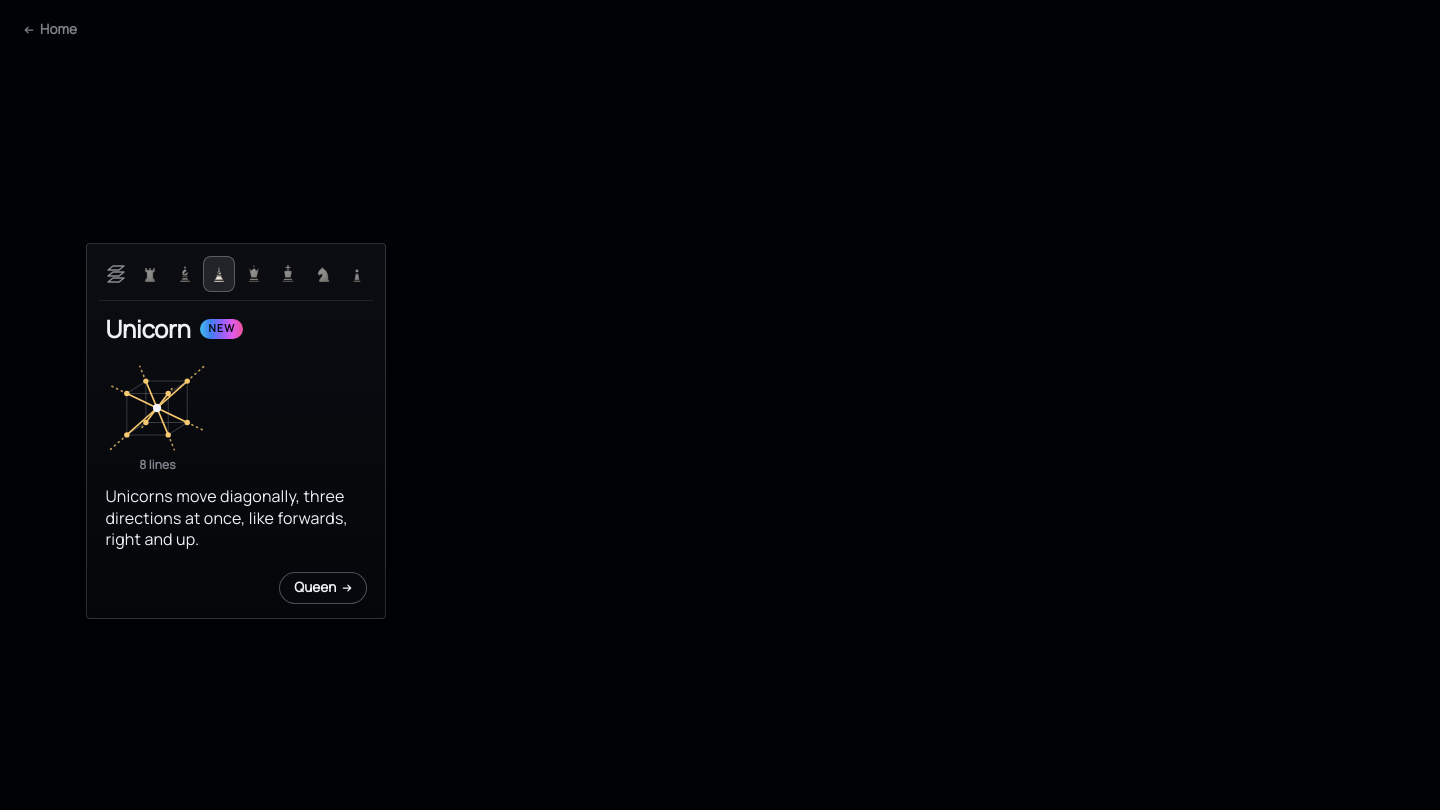
Test case: goes without its board, its lessons still there to read
Expected: the text "8 lines" is shown, [139,456,176,474]
Click the button named "Queen" at (254, 274), box [237,256,270,292]
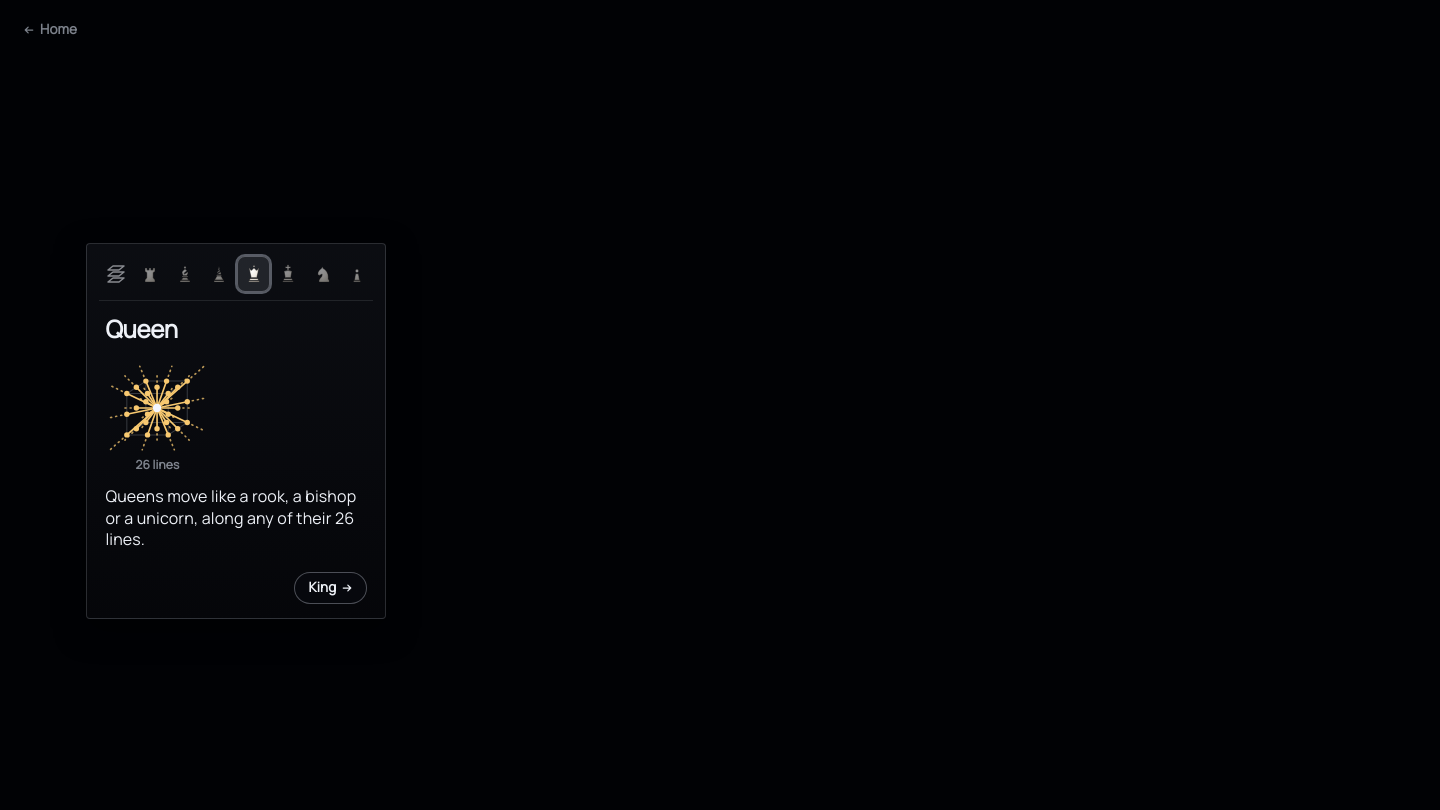
Now the heading "Queen" is shown, box [105,311,178,347]
